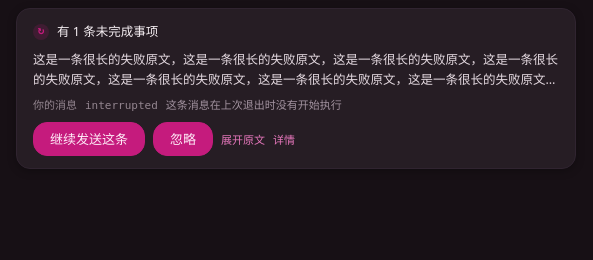
Test case: 原文默认简述 + 就地展开（滚动规则） › Esc 收起原文与详情（只收展开态，不动记录与动作）
Click the button with class "btn-text": (243, 139) [221,131,265,147]
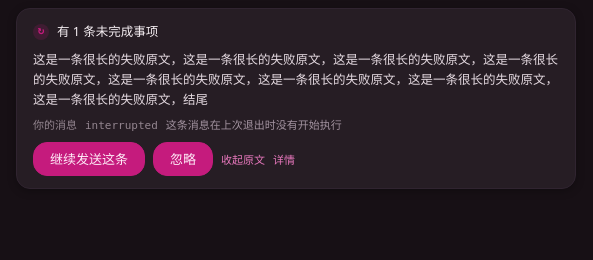
Click the button with class "btn-details": (284, 159) [273,151,295,167]
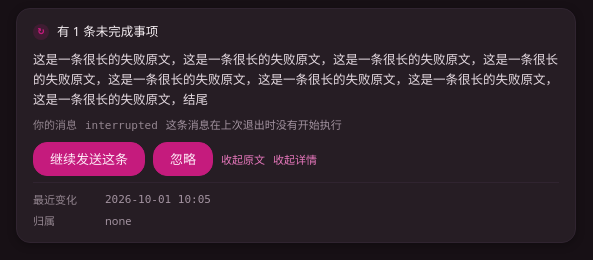
Check: the element with class "details" is shown, box [33,182,559,230]
Press Escape in the element with class "recovery-inbox"
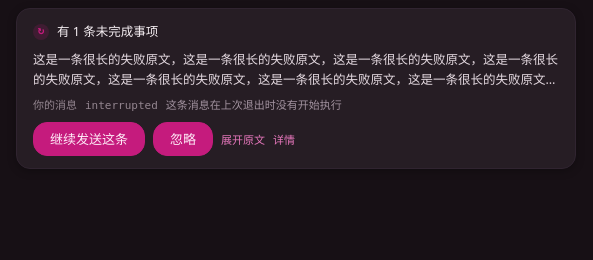
Check: the button with class "btn-continue" is shown, box [33,122,145,156]
Check: the button with class "btn-text" is collapsed, box [221,131,265,147]
